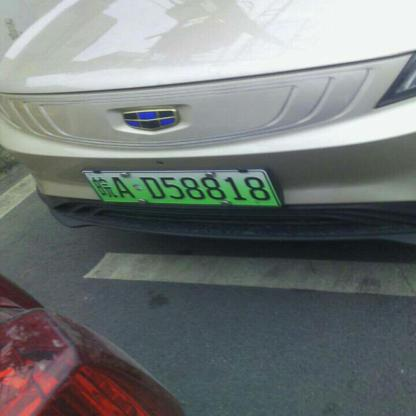lp: (81, 170, 281, 204)
